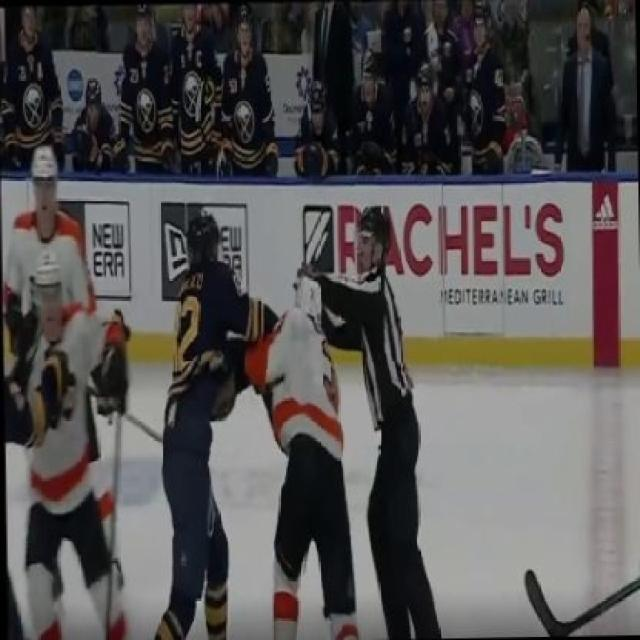fight: (120, 217, 362, 638)
non-fight: (0, 132, 151, 638)
